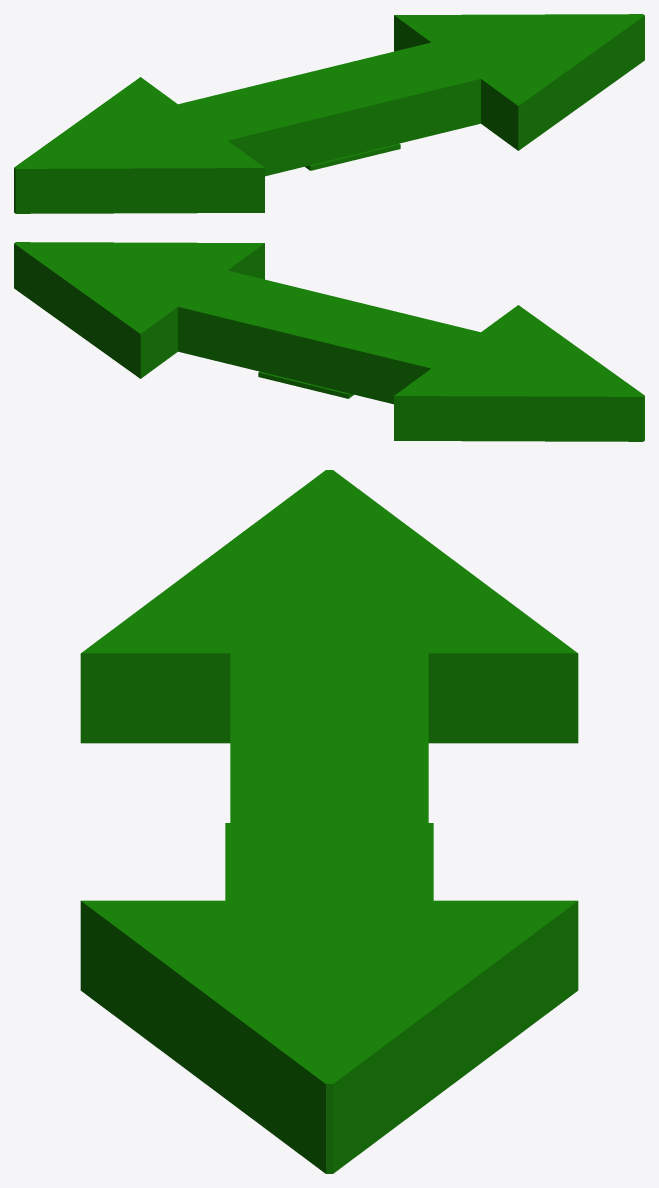
Rendered from Split Path Indicator.fbx.
3 renders of one model, top to bottom at view 1: azimuth 30°, elevation 25°; view 2: azimuth 150°, elevation 25°; view 3: azimuth 270°, elevation 25°, orthographic. The views are drawn at different scales.
Visible parts, largest first — view 1: building_001; view 2: building_001; view 3: building_001.
Part boxes in pixels (<box>): building_001: <box>14,14,644,213</box>; building_001: <box>14,242,644,441</box>; building_001: <box>80,470,578,1173</box>.
Size of the model in its own units: 2931 by 220 by 1004.
